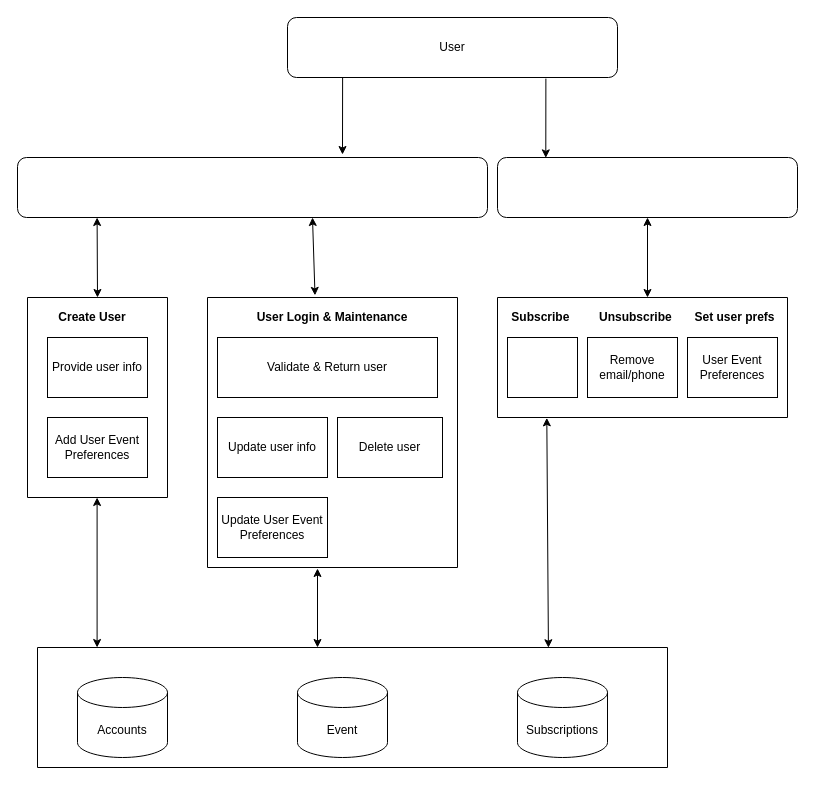
Image size: 815x785. Some labels were removed from this diagram. Here are the shapes that lost their labels. From the top down, the centre of each, then its label:
At [252,187]: "User Account API".
At [647,187]: "Anonymous User API".
At [542,367]: "Provide email or phone".
